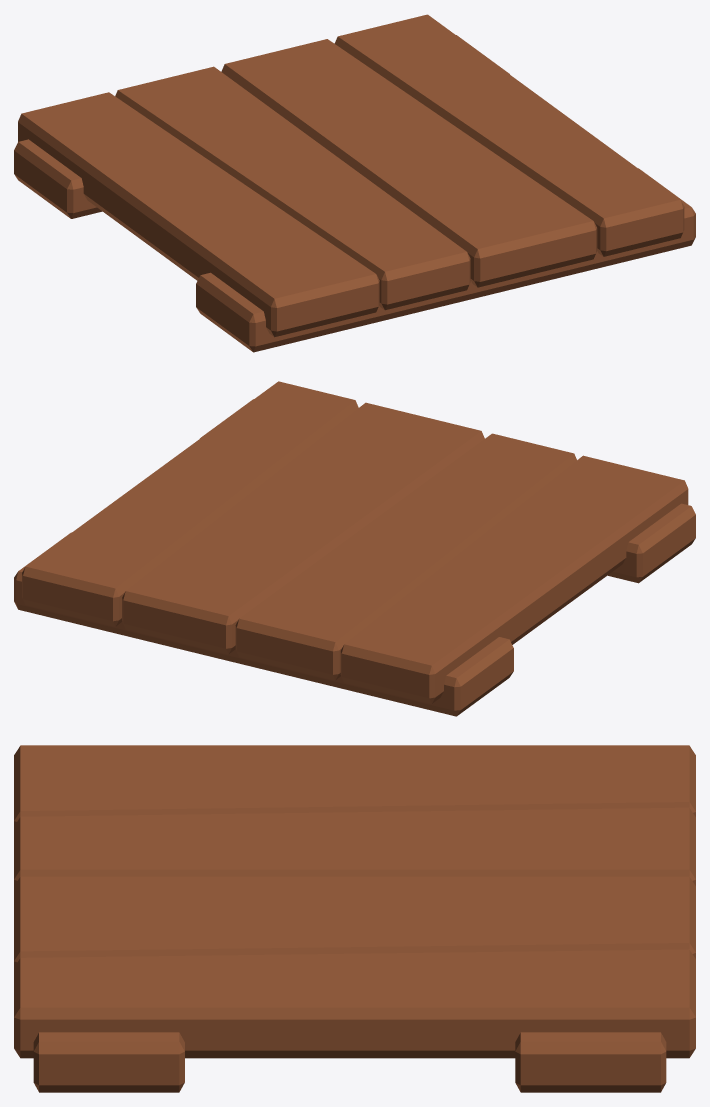
File: Model_stem_01.fbx
3 views of the same model, one above another, from view 1: azimuth 30°, elevation 25°; view 2: azimuth 150°, elevation 25°; view 3: azimuth 270°, elevation 25° (orthographic). The views are drawn at different scales.
Visible parts, largest first — view 1: FBX_stem_01; view 2: FBX_stem_01; view 3: FBX_stem_01.
Part boxes in pixels (x1,y1,x2,y2): FBX_stem_01: (14,14,695,352); FBX_stem_01: (14,381,695,716); FBX_stem_01: (14,745,695,1092).
Size of the model in its own units: 427 by 50.68 by 427.
